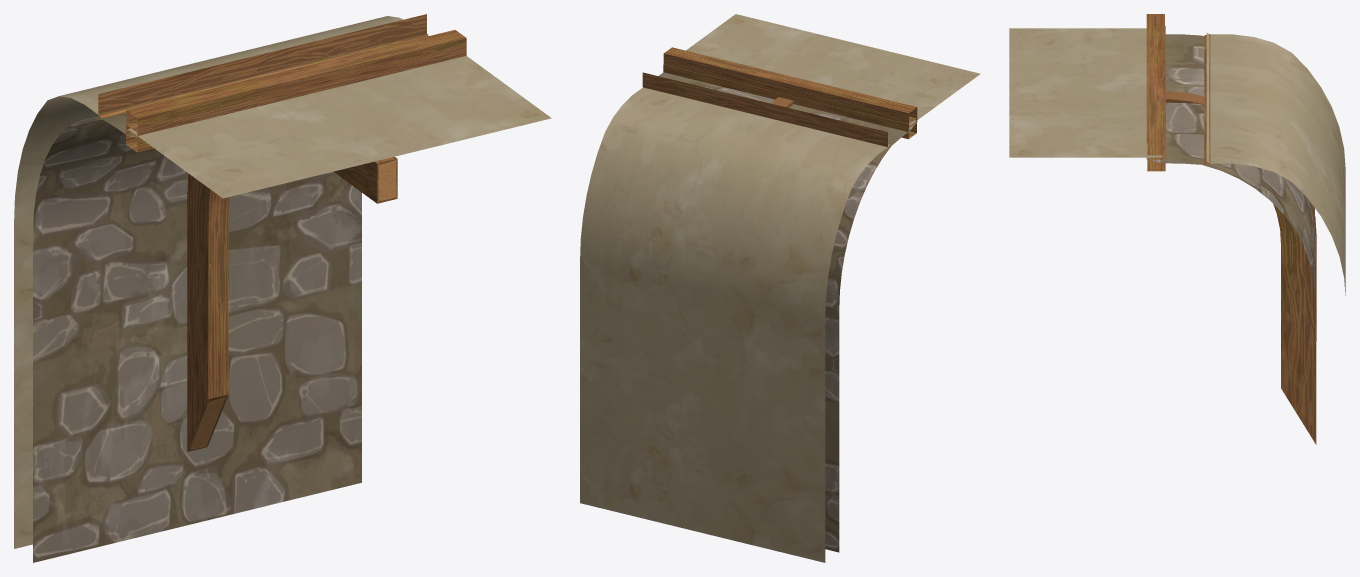
The model's file is Overhang_UnevenBrick_Long.glb.
The picture shows the model from 3 angles, left to right: view 1: azimuth 30°, elevation 25°; view 2: azimuth 150°, elevation 25°; view 3: azimuth 270°, elevation 25°; orthographic projection. The views are drawn at different scales.
Parts seen in each view (by area): view 1: Overhang_UnevenBrick_Long; view 2: Overhang_UnevenBrick_Long; view 3: Overhang_UnevenBrick_Long.
Part boxes in pixels (box(x1,y1,x2,y2)): Overhang_UnevenBrick_Long: box(14, 14, 551, 562); Overhang_UnevenBrick_Long: box(580, 14, 980, 562); Overhang_UnevenBrick_Long: box(1009, 14, 1345, 444).
Size of the model in its own units: 2 by 3.03 by 2.2.
3 materials, 3 textured.
